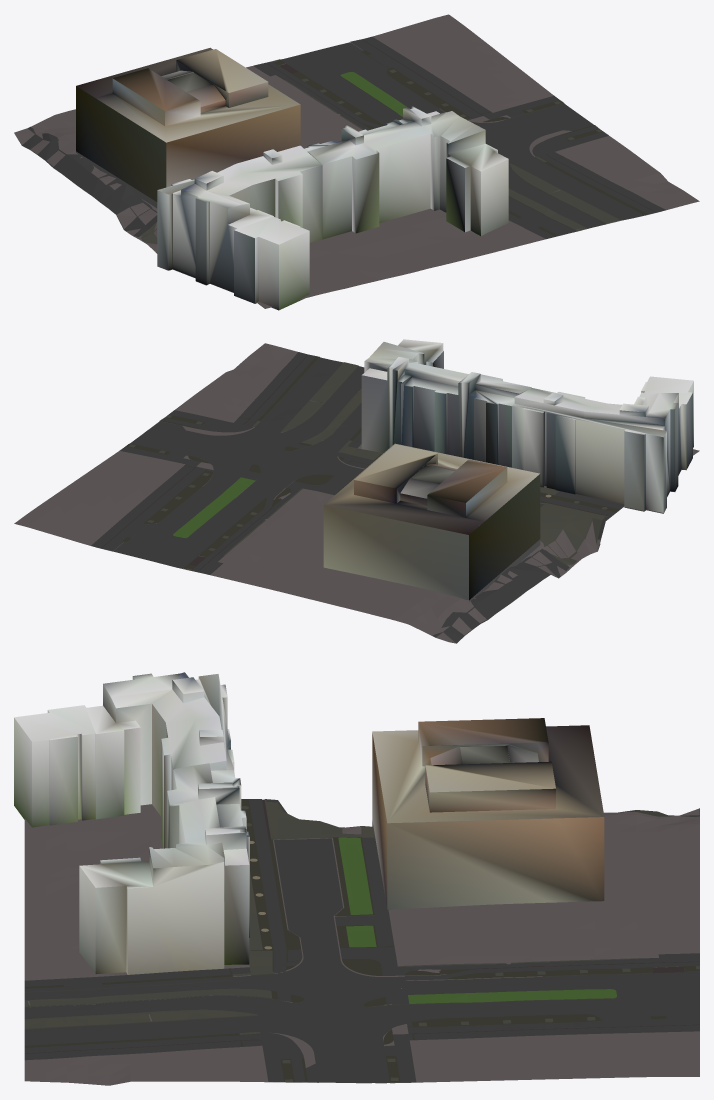
3 renders of one model, top to bottom at view 1: azimuth 30°, elevation 25°; view 2: azimuth 150°, elevation 25°; view 3: azimuth 270°, elevation 25°, orthographic. The views are drawn at different scales.
Parts seen in each view (by area): view 1: c_m20_p05; view 2: c_m20_p05; view 3: c_m20_p05.
Part boxes in pixels (bbox=[...]): c_m20_p05: bbox=[14, 14, 699, 310]; c_m20_p05: bbox=[14, 339, 699, 643]; c_m20_p05: bbox=[14, 672, 699, 1085].
Bounding box in the file's own units: 139 × 31.71 × 130.
